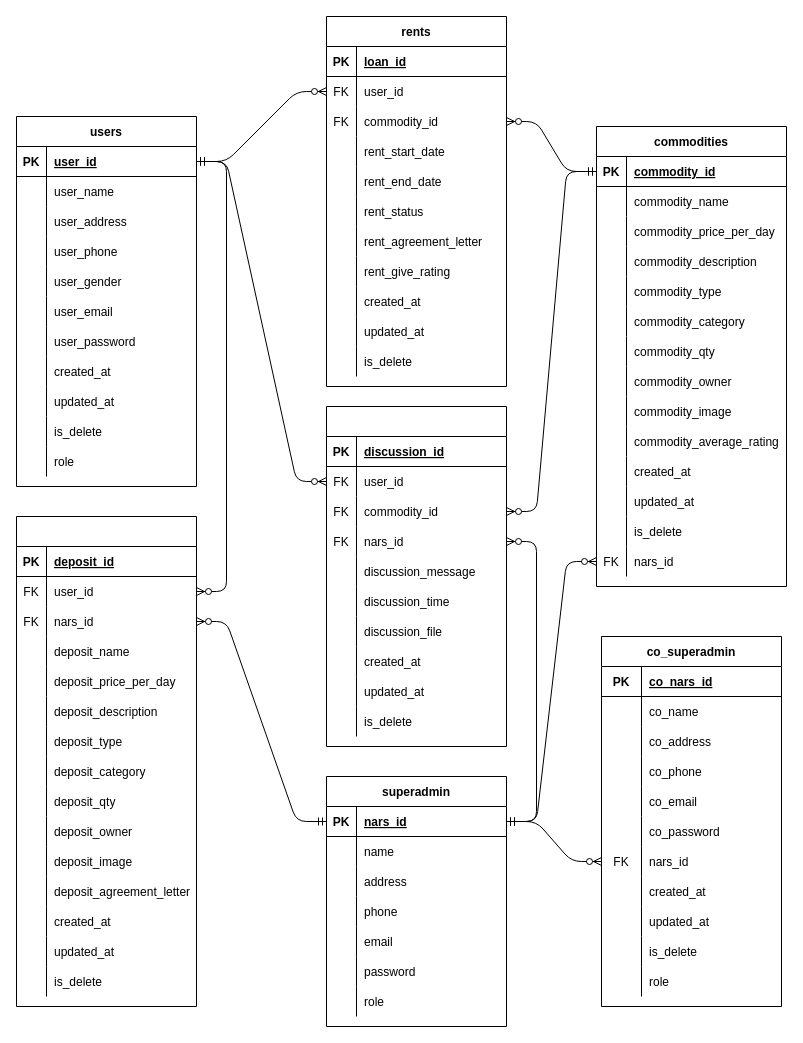
This 803x1043 diagram has some shape labels left out. Each missing label, with the box of its shape:
deposits: (16, 516, 196, 1006)
discussions: (326, 406, 506, 746)
